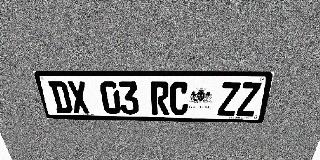0: (99, 81, 121, 114)
3: (118, 81, 139, 114)
C: (170, 82, 189, 115)
D: (48, 81, 73, 113)
R: (150, 82, 169, 115)
X: (66, 81, 91, 114)
Z: (236, 82, 262, 116), (217, 82, 241, 116)
